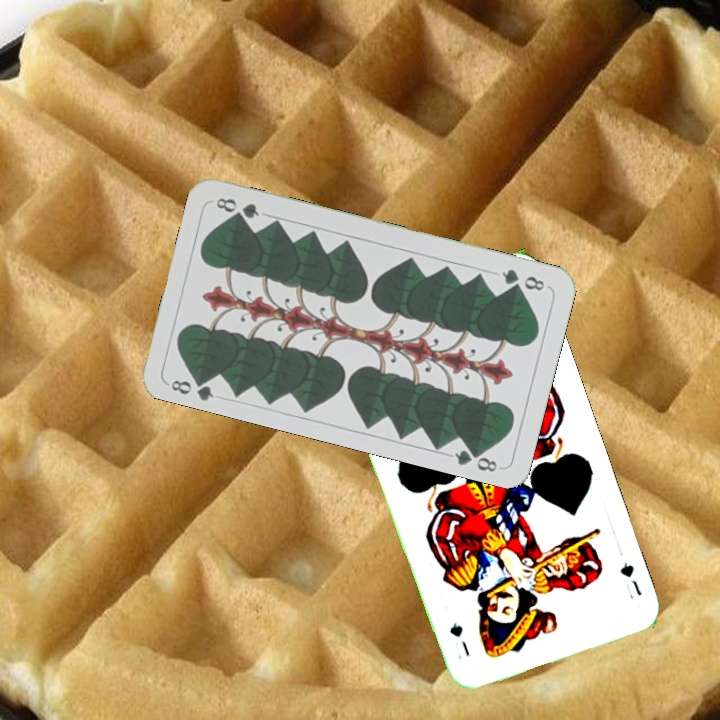G8: (167, 371, 217, 403), (497, 265, 547, 293)
GU: (615, 558, 645, 602)
